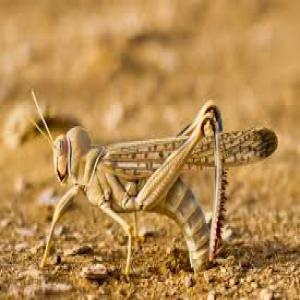locust: (37, 88, 285, 268)
